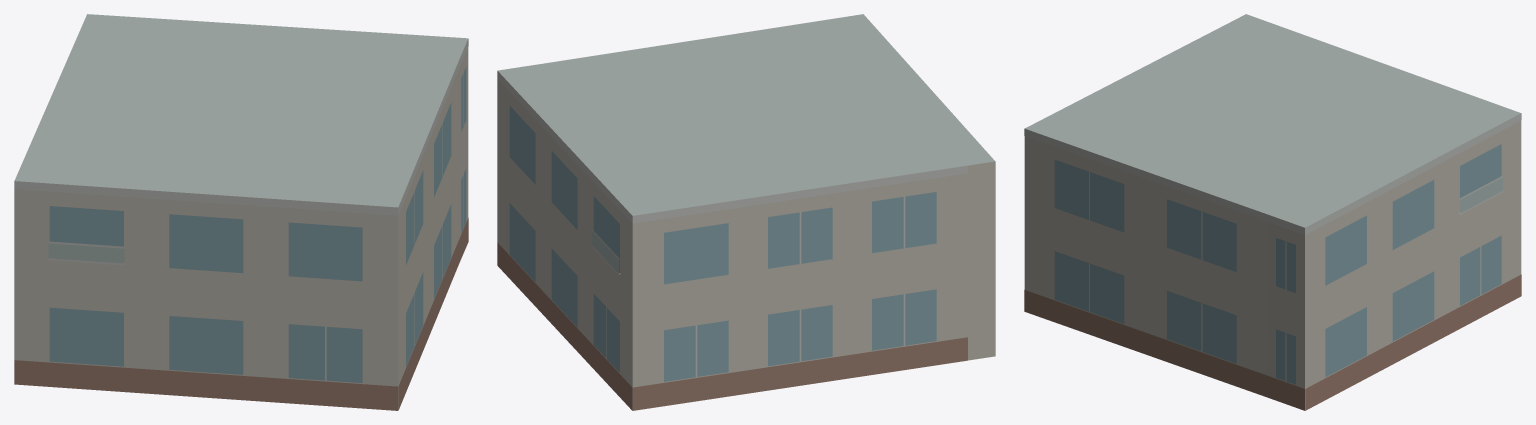
The model's file is survey-upis-32668485.glb.
The picture shows the model from 3 angles, left to right: view 1: azimuth 30°, elevation 25°; view 2: azimuth 150°, elevation 25°; view 3: azimuth 270°, elevation 25°; orthographic projection. The views are drawn at different scales.
Visible parts, largest first — view 1: survey-upis-32668485.tmp; view 2: survey-upis-32668485.tmp; view 3: survey-upis-32668485.tmp.
Boxes of the visible parts, x1,y1,x2,y2 form: survey-upis-32668485.tmp: (14, 14, 468, 410); survey-upis-32668485.tmp: (497, 14, 995, 410); survey-upis-32668485.tmp: (1024, 14, 1521, 410).
Bounding box in the file's own units: 15.29 × 6.1 × 15.01.
